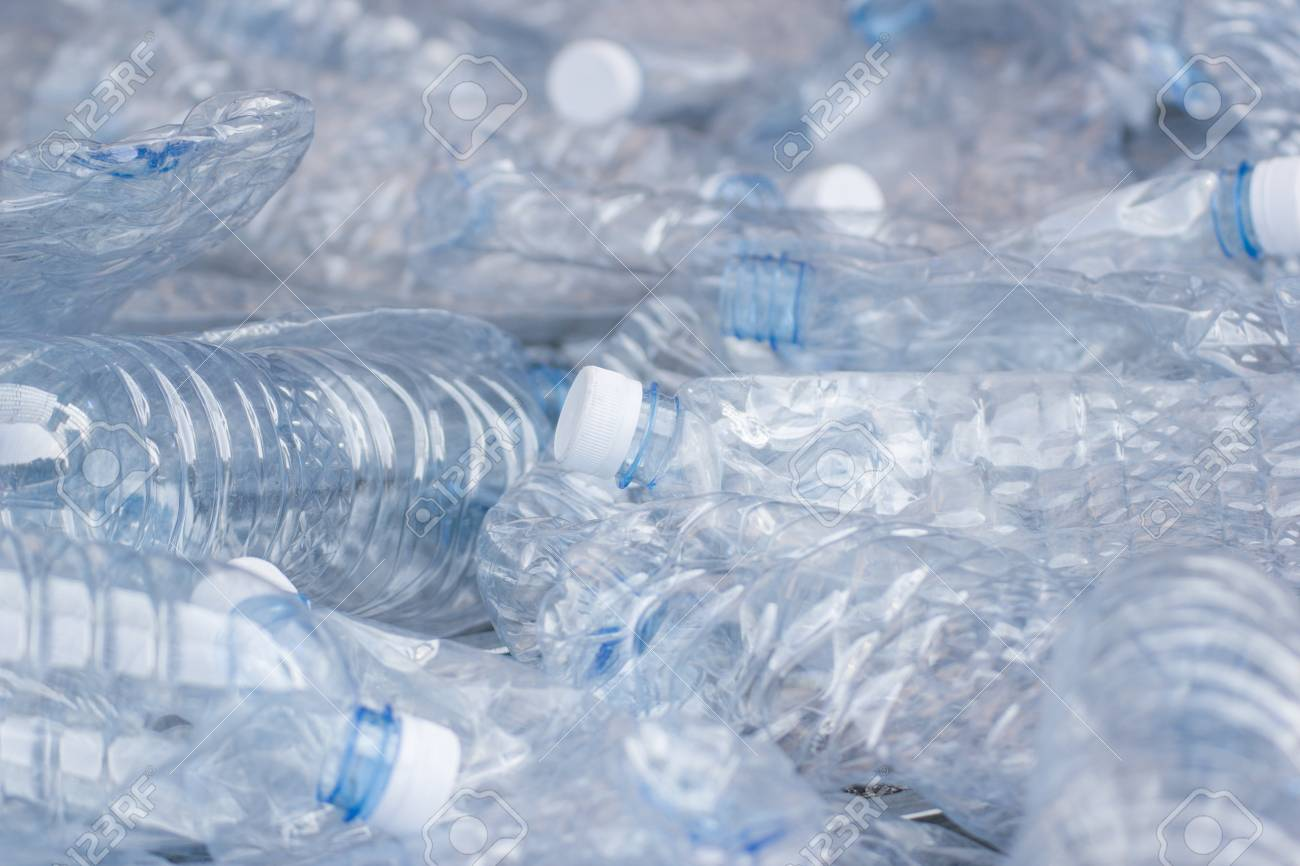plastic_bottle: (518, 307, 1300, 617), (592, 189, 1290, 429), (638, 81, 1300, 287)
